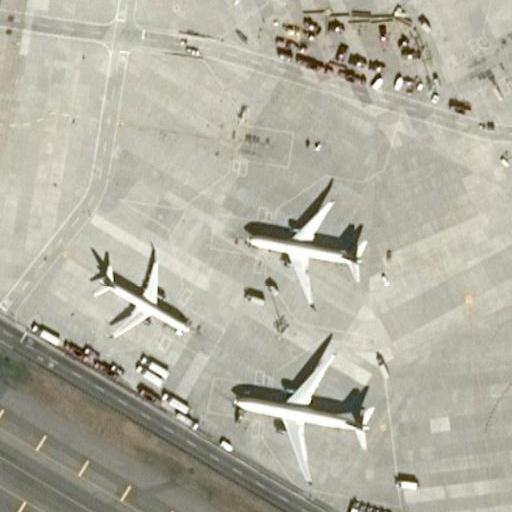Aircraft: (226, 341, 377, 482), (240, 189, 369, 304), (84, 244, 194, 339)
